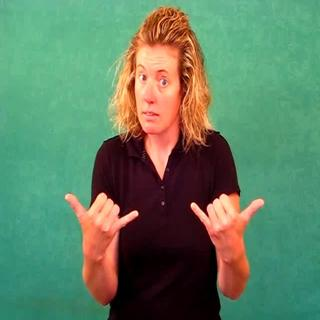now: (61, 187, 269, 245)
